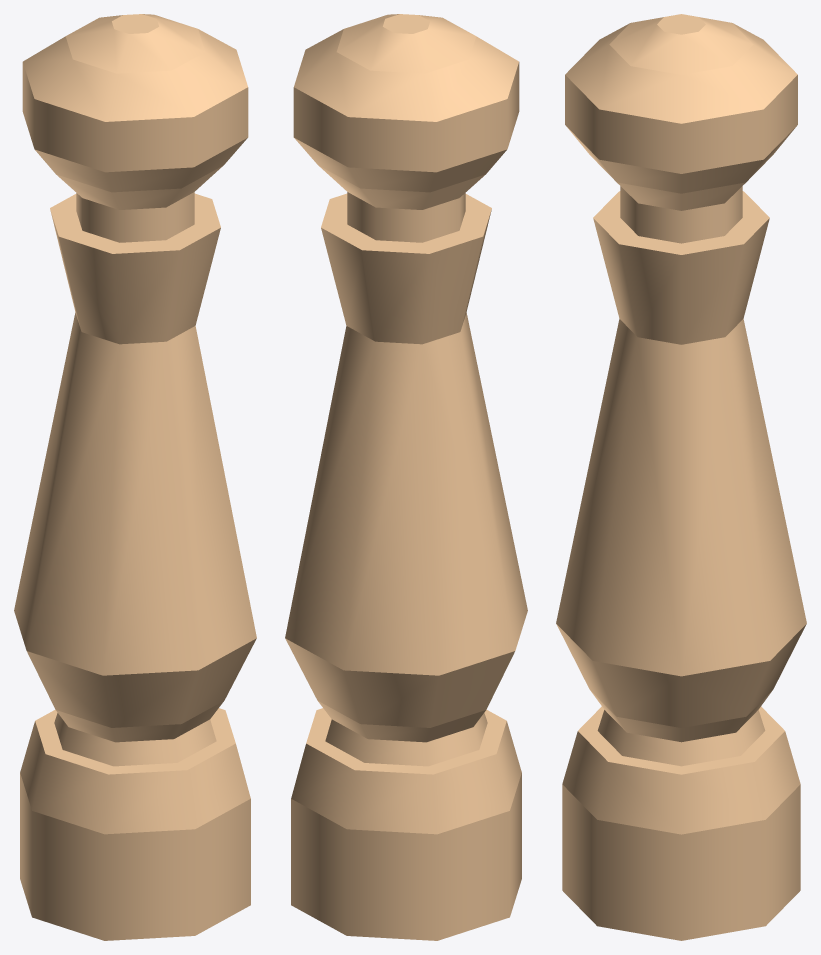
The model's file is pepperMill.GLB.
3 views of the same model, side by side, from view 1: azimuth 30°, elevation 25°; view 2: azimuth 150°, elevation 25°; view 3: azimuth 270°, elevation 25° (orthographic).
Parts seen in each view (by area): view 1: pepperMill; view 2: pepperMill; view 3: pepperMill.
Part boxes in pixels (bbox=[...]): pepperMill: bbox=[14, 14, 256, 940]; pepperMill: bbox=[285, 14, 527, 940]; pepperMill: bbox=[556, 14, 806, 940].
Bounding box in the file's own units: 0.141 × 0.5372 × 0.141.
